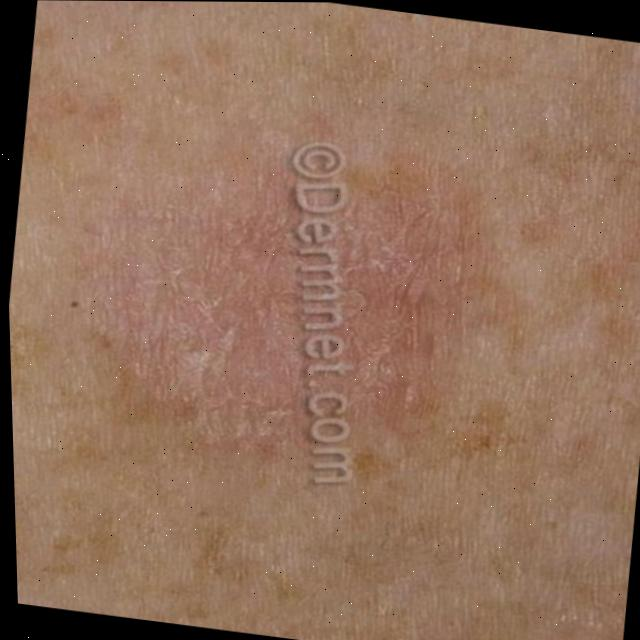Eczema: (80, 104, 511, 567)
